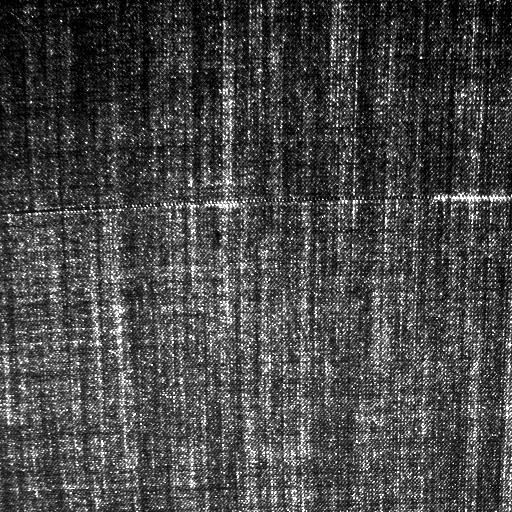fabric_broken_pick: (26, 187, 508, 213)
